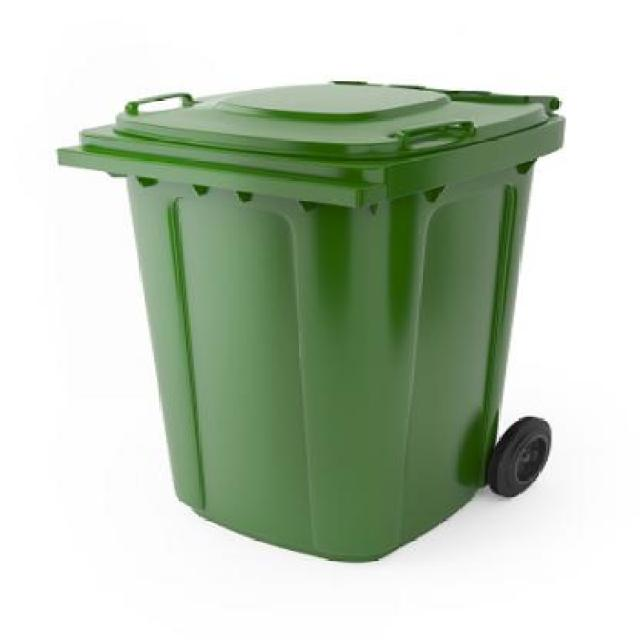garbage container: (40, 65, 586, 578)
